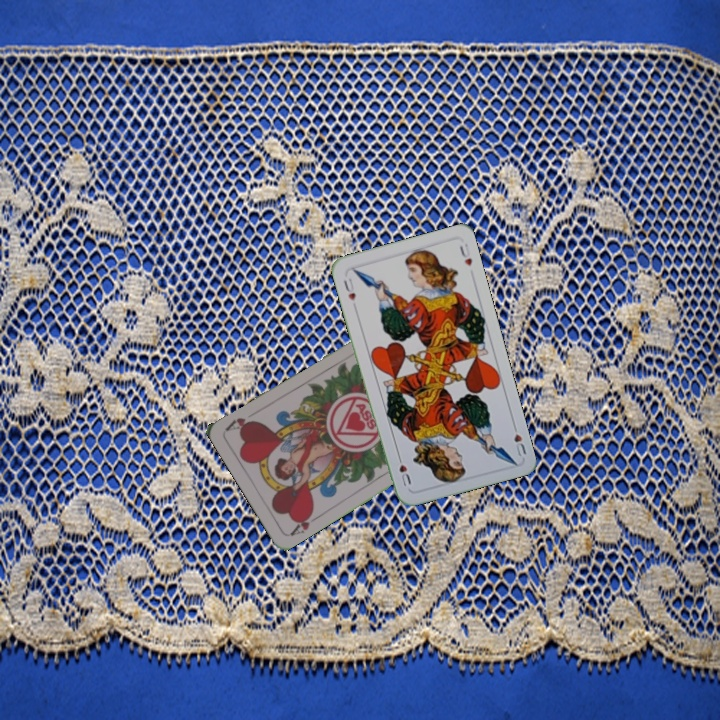HA: (286, 507, 322, 538)
HU: (508, 419, 529, 460), (339, 274, 358, 304)
